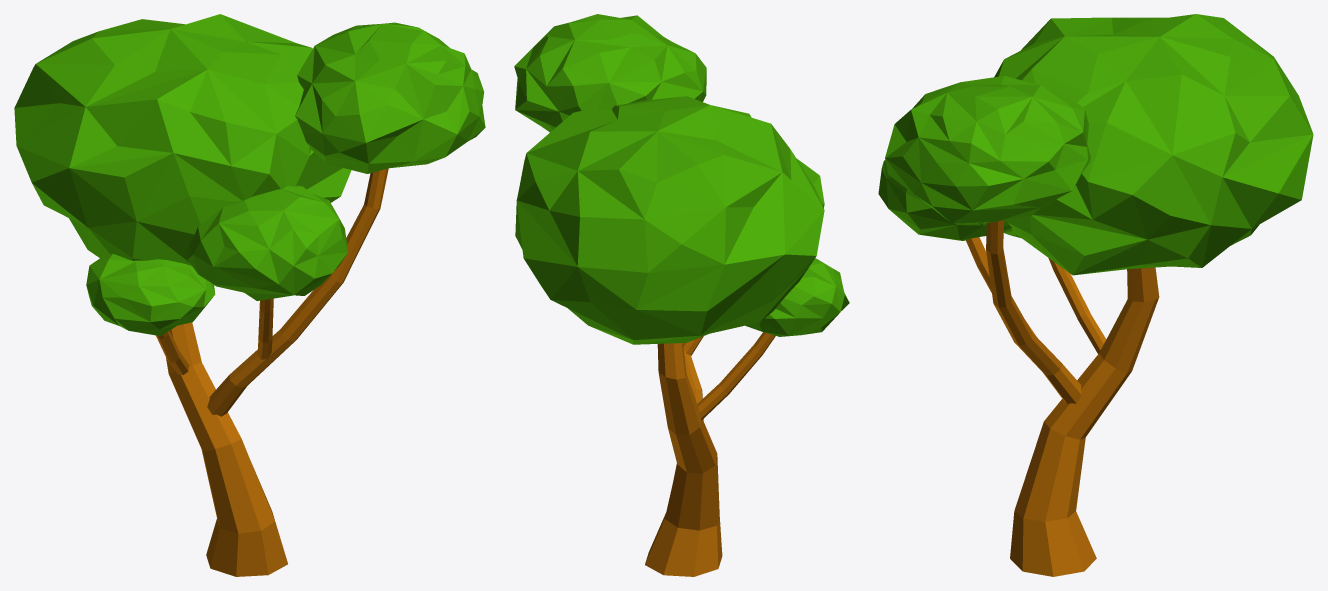
The model's file is GEO_tree_1.fbx.
3 views of the same model, side by side, from view 1: azimuth 30°, elevation 25°; view 2: azimuth 150°, elevation 25°; view 3: azimuth 270°, elevation 25° (orthographic). The views are drawn at different scales.
Parts seen in each view (by area): view 1: GEO_tree_1; view 2: GEO_tree_1; view 3: GEO_tree_1.
Part boxes in pixels (left/top/right/bottom): GEO_tree_1: left=14, top=14, right=485, bottom=576; GEO_tree_1: left=514, top=14, right=849, bottom=576; GEO_tree_1: left=878, top=14, right=1313, bottom=576.
Bounding box in the file's own units: 356 × 463 × 348.
